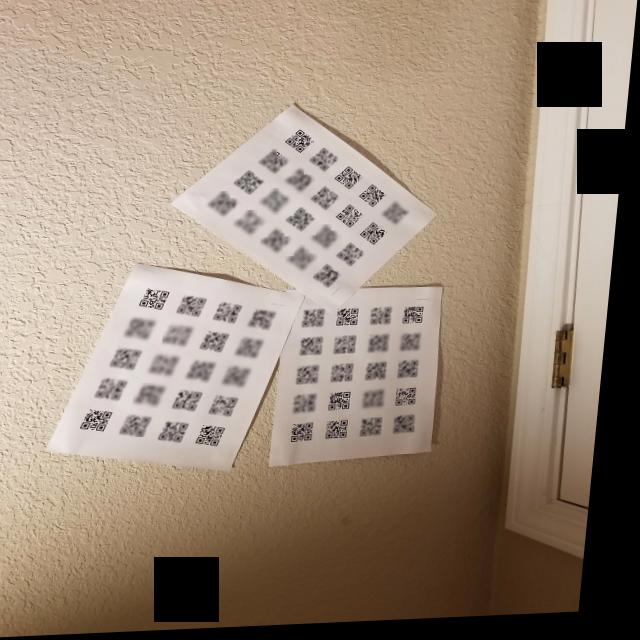QR_CODE: (93, 376, 140, 409), (125, 314, 169, 346), (135, 287, 181, 316), (81, 408, 126, 437), (163, 418, 204, 448), (153, 352, 194, 382), (113, 347, 155, 376), (202, 424, 241, 455), (178, 293, 218, 323), (280, 129, 320, 159), (225, 364, 264, 394), (176, 388, 216, 417), (287, 207, 323, 239), (265, 229, 302, 260), (209, 192, 247, 222), (308, 150, 348, 178), (234, 170, 271, 200), (283, 168, 320, 198), (125, 412, 166, 439), (191, 357, 229, 386), (238, 336, 276, 365), (310, 227, 348, 256), (169, 323, 205, 353), (237, 212, 274, 241), (313, 265, 351, 293), (253, 307, 287, 338), (290, 247, 324, 278), (213, 396, 252, 423), (338, 244, 373, 274), (357, 185, 393, 214), (362, 225, 399, 253), (140, 384, 178, 411), (217, 302, 252, 331), (336, 205, 371, 234), (312, 188, 347, 217), (204, 329, 240, 357), (262, 190, 298, 218), (261, 151, 297, 179), (397, 416, 433, 443), (292, 421, 328, 448), (383, 204, 415, 233), (335, 167, 368, 195), (328, 420, 362, 447), (340, 308, 374, 335), (301, 363, 334, 390), (304, 308, 338, 334), (337, 334, 371, 359), (403, 333, 435, 359), (302, 336, 334, 362), (405, 306, 437, 332), (331, 392, 364, 417), (296, 394, 329, 419), (368, 362, 401, 387), (367, 389, 397, 416), (399, 390, 432, 413), (370, 335, 403, 358), (373, 307, 403, 332), (402, 362, 432, 386), (365, 421, 397, 443), (335, 364, 365, 387)
